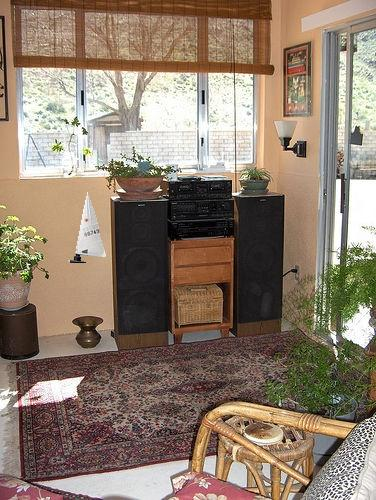tampered: (69, 193, 106, 263)
